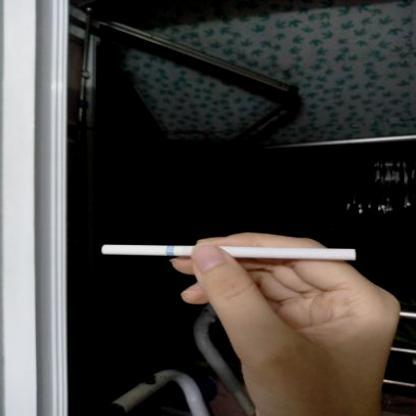cigarette: (99, 240, 360, 265)
